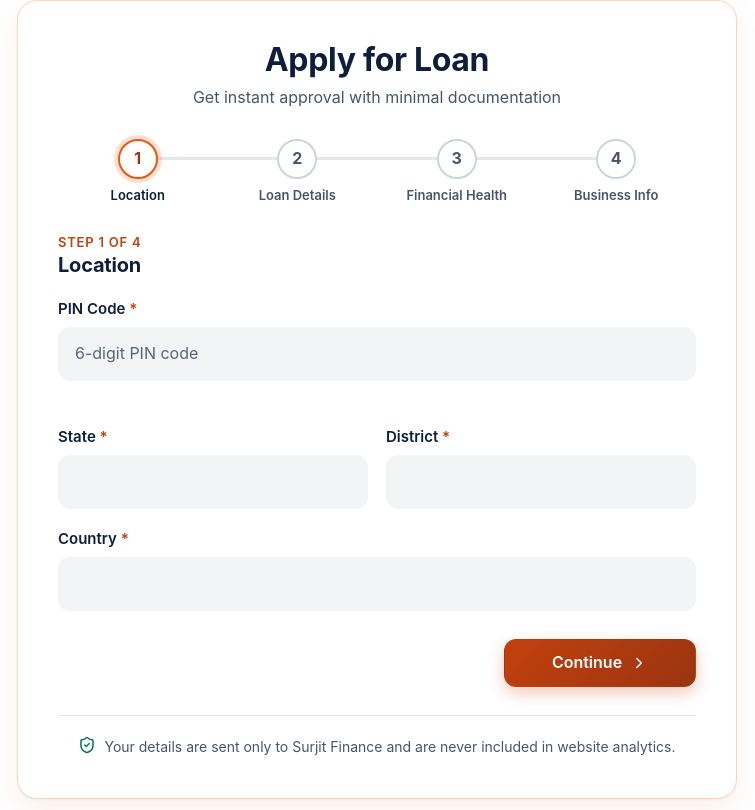
Step 1 — Location › required fields block Continue and show messages tied to each field
Click the button "Continue": click(600, 663) [504,639,696,687]
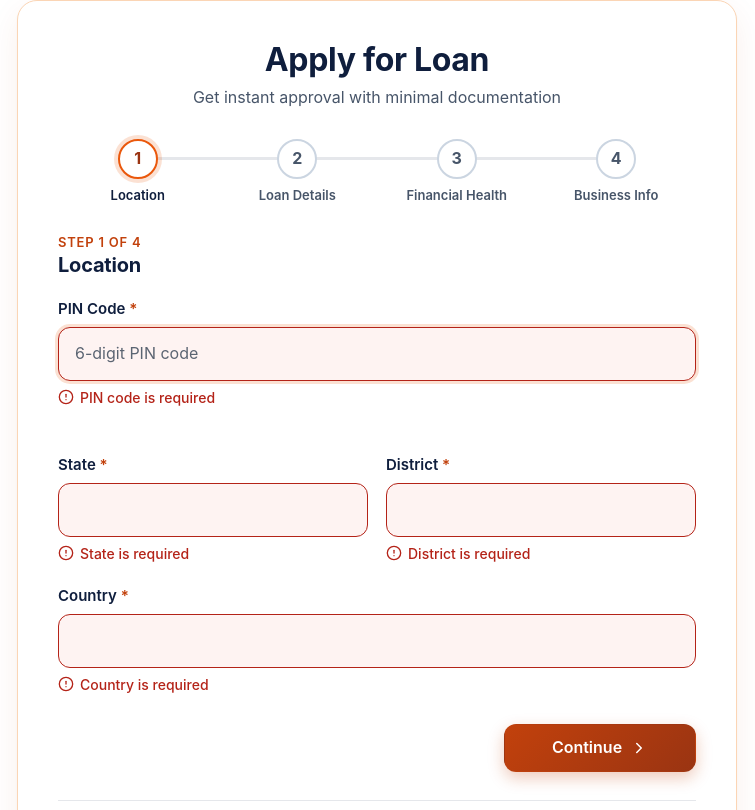
Expected: the heading "Step 1 of 4 Location" is shown, [58,234,141,277]
Expected: the text "PIN code is required" is shown, [80,387,215,409]
Expected: the text "State is required" is shown, [80,543,189,566]
